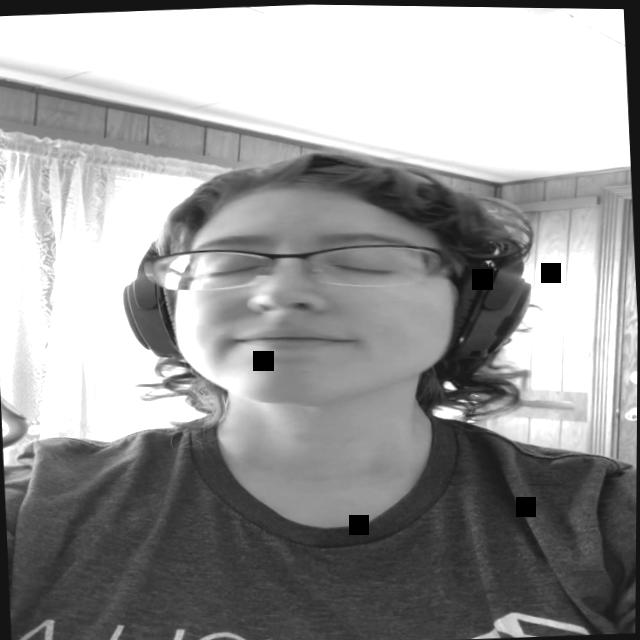NO-Mask: (160, 172, 468, 412)
